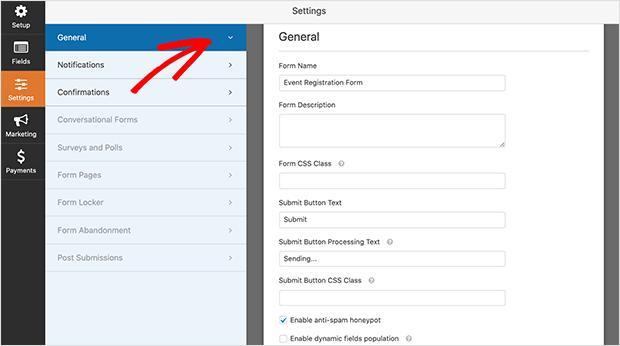checkbox: (279, 335, 289, 345), (280, 316, 288, 327)
dropdown: (44, 24, 249, 51)
icon: (11, 76, 33, 94), (12, 114, 31, 131), (12, 41, 32, 55), (16, 4, 30, 19), (16, 149, 28, 166), (386, 237, 395, 248), (368, 277, 378, 286), (405, 335, 415, 344), (338, 159, 346, 169)
input: (278, 251, 508, 270), (278, 291, 508, 309), (279, 174, 506, 190), (280, 212, 505, 228), (282, 75, 506, 91)
label: (280, 238, 382, 248), (291, 335, 403, 344), (289, 317, 383, 325), (277, 277, 362, 285), (278, 101, 337, 110), (278, 199, 343, 207), (279, 62, 319, 71), (277, 161, 333, 167)
